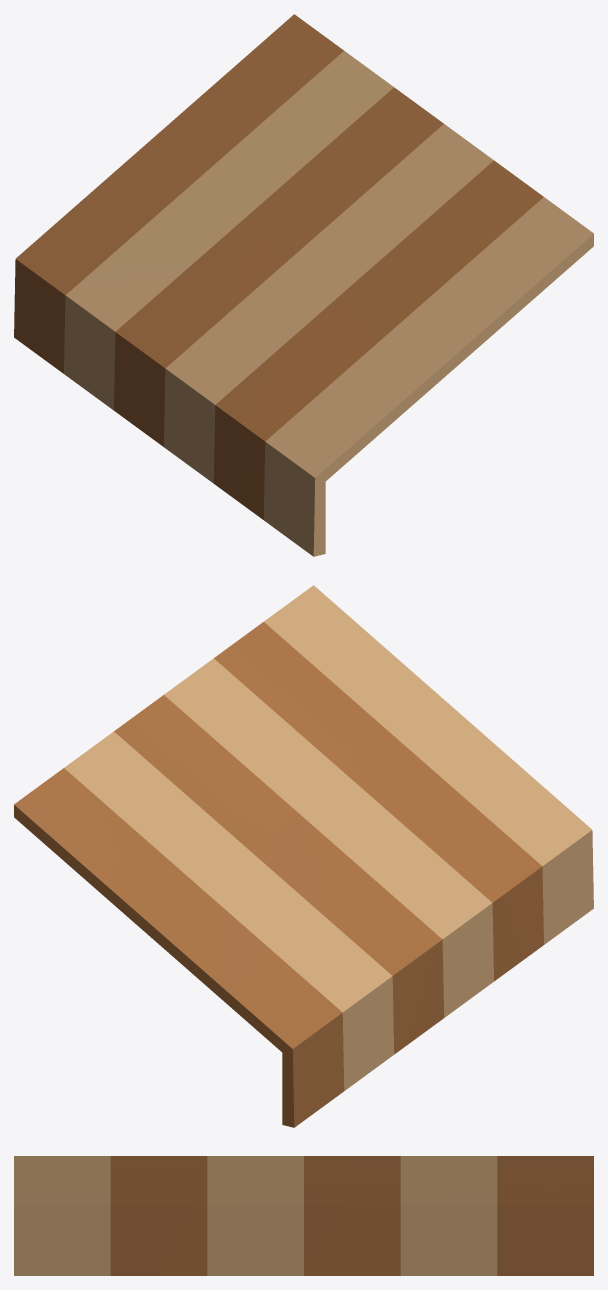
File: Awning_2_F.fbx
The picture shows the model from 3 angles, top to bottom: view 1: azimuth 30°, elevation 25°; view 2: azimuth 150°, elevation 25°; view 3: azimuth 270°, elevation 25°; orthographic projection. The views are drawn at different scales.
Visible parts, largest first — view 1: Awning_2_F; view 2: Awning_2_F; view 3: Awning_2_F.
Part boxes in pixels (x1,y1,x2,y2): Awning_2_F: (14, 14, 593, 556); Awning_2_F: (14, 585, 593, 1127); Awning_2_F: (14, 1156, 593, 1275).
Size of the model in its own units: 111 by 96.45 by 205.
